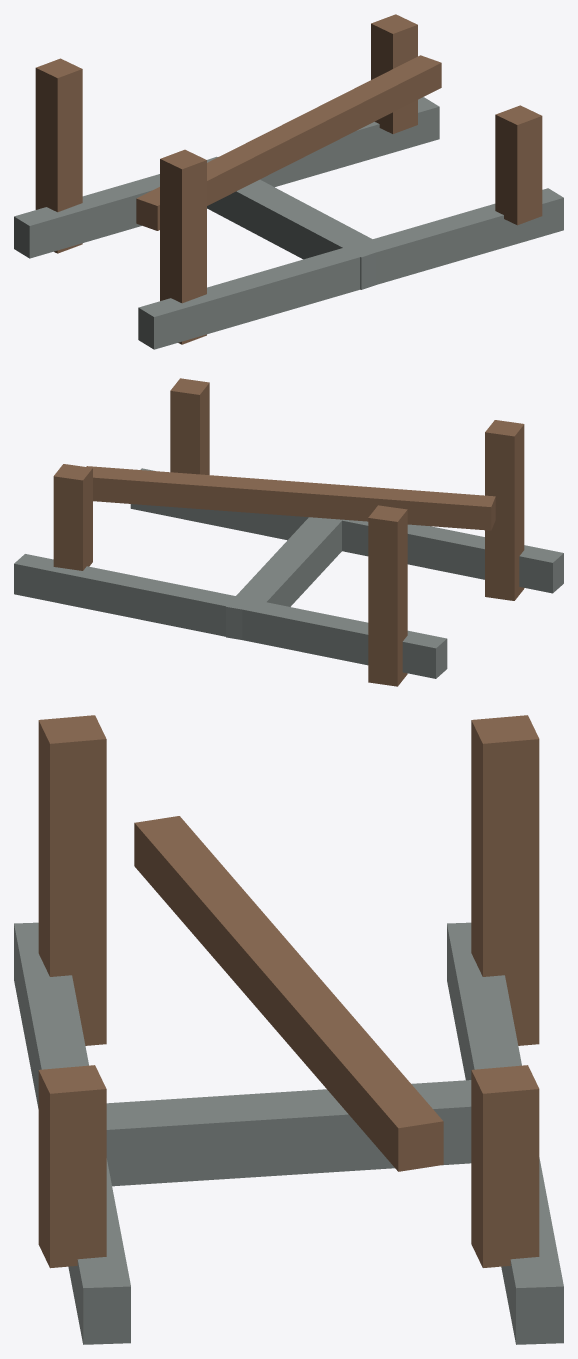
File: v2_scrap_frame.glb
The picture shows the model from 3 angles, top to bottom: view 1: azimuth 30°, elevation 25°; view 2: azimuth 150°, elevation 25°; view 3: azimuth 270°, elevation 25°; orthographic projection. The views are drawn at different scales.
Parts seen in each view (by area): view 1: Cube.011; view 2: Cube.011; view 3: Cube.011.
Boxes of the visible parts, x1=… form: Cube.011: x1=14, y1=14, x2=563, y2=349; Cube.011: x1=14, y1=378, x2=563, y2=686; Cube.011: x1=14, y1=715, x2=563, y2=1344.
Bounding box in the file's own units: 1.76 × 0.6825 × 1.11.
